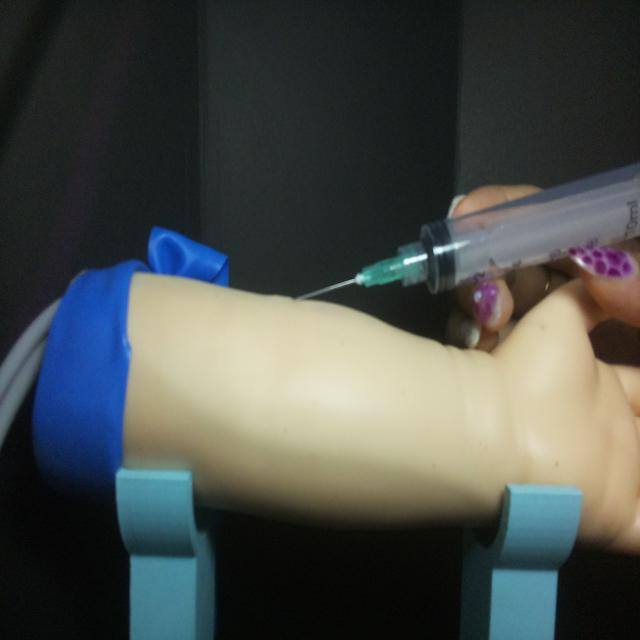17deg: (293, 159, 638, 306)
